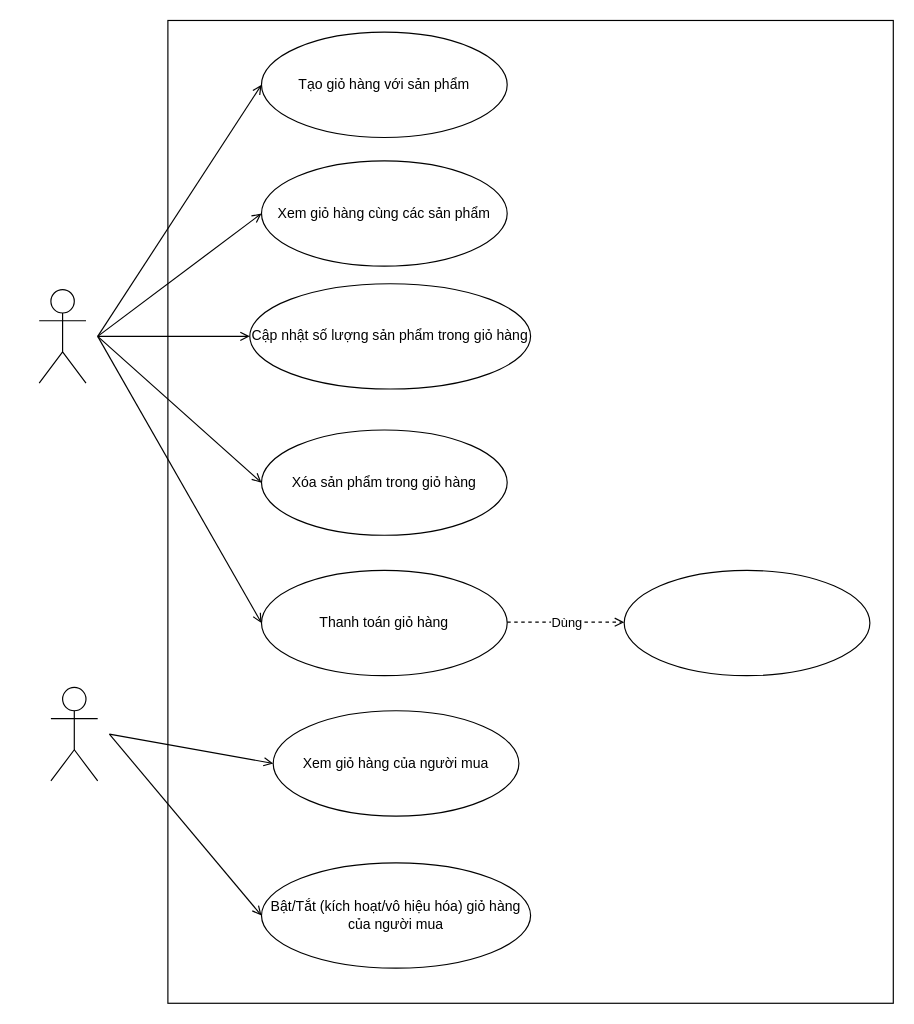
The diagram is 914 pixels wide and 1024 high, and some of its shapes have lost their labels. Each missing label, with the centre of its shape:
"Cập nhật sản phẩm với tồn kho" goes at (746,622).
"Người mua" goes at (62,335).
"Quản trị hệ thống" goes at (74,733).
